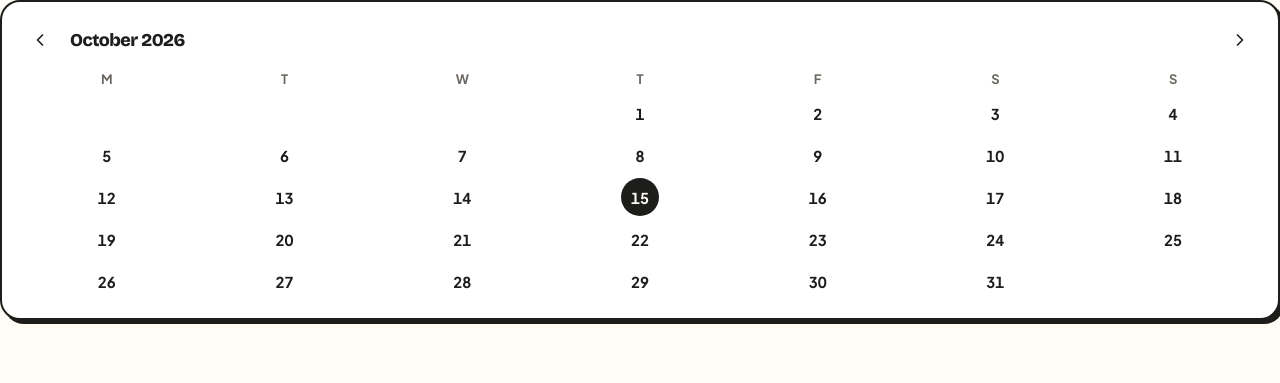
RangeCalendar › the arrows page one month
Click the button named "Next month" at x=1240, y=40, box [1218, 18, 1262, 62]
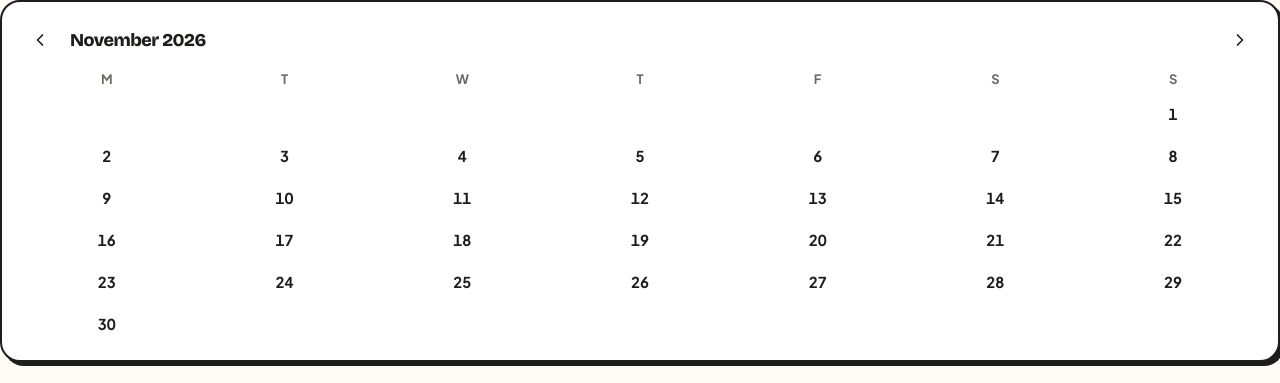
Result: the heading "November 2026" is shown at [70, 29, 206, 51]
